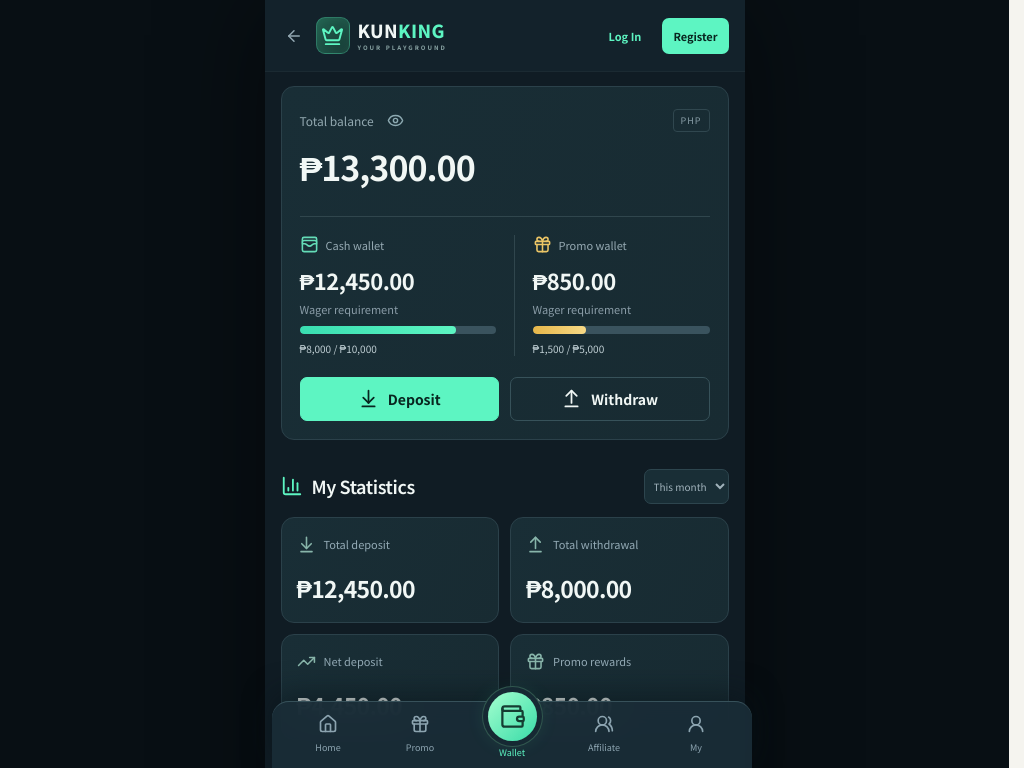
Test: hides and restores all balance card money without changing statistics
Expected: the text "₱13,300.00" is shown, [300,142,475,191]
Step 1. Click the button named "Hide balances" → click(396, 120), box [382,105,410,135]
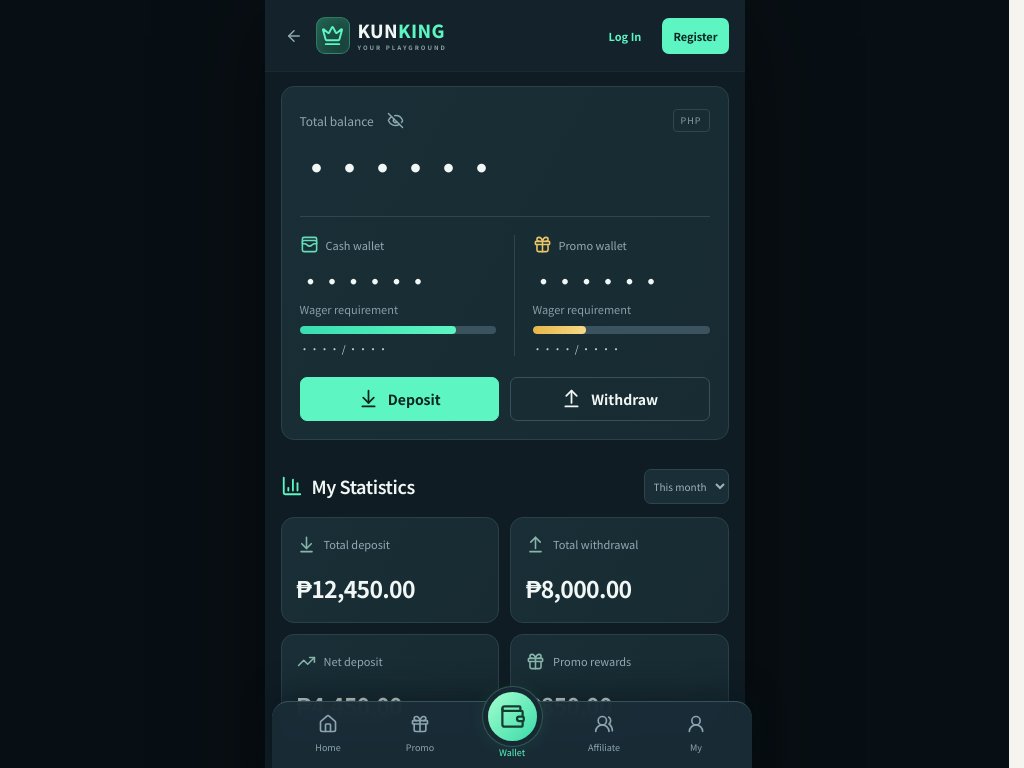
Expected: the text "₱12,450.00" is shown, [296,571,415,605]
Step 2. Click the button named "Show balances" → click(396, 120), box [382,105,410,135]
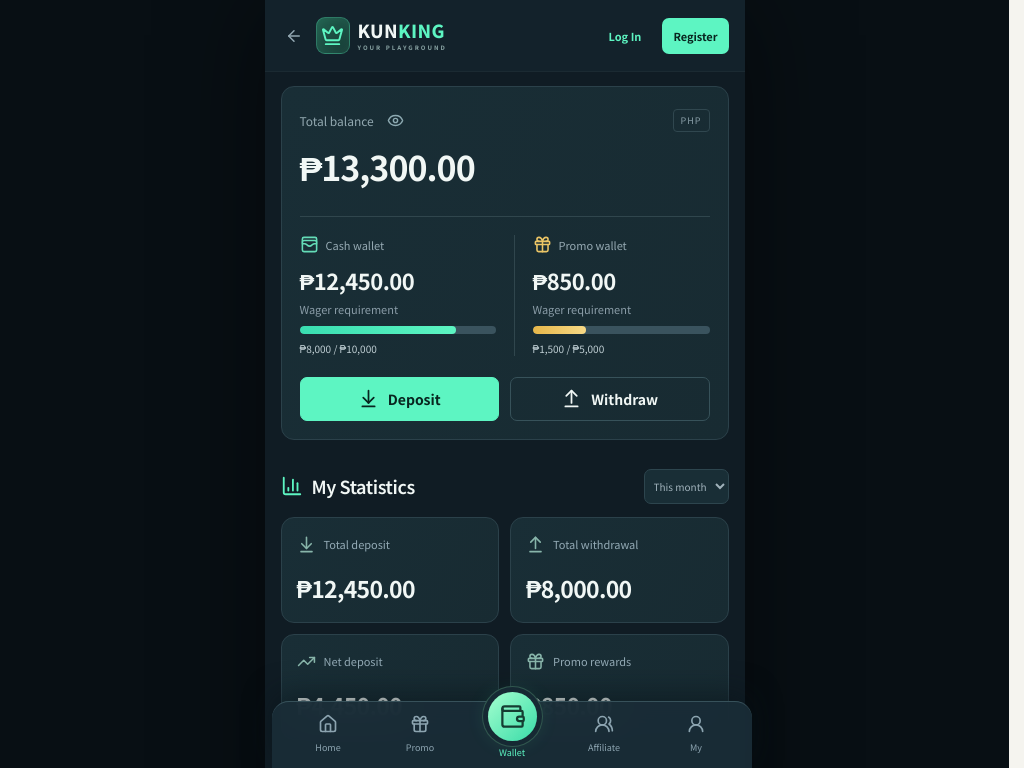
Expected: the text "₱13,300.00" is shown, [300,142,475,191]
